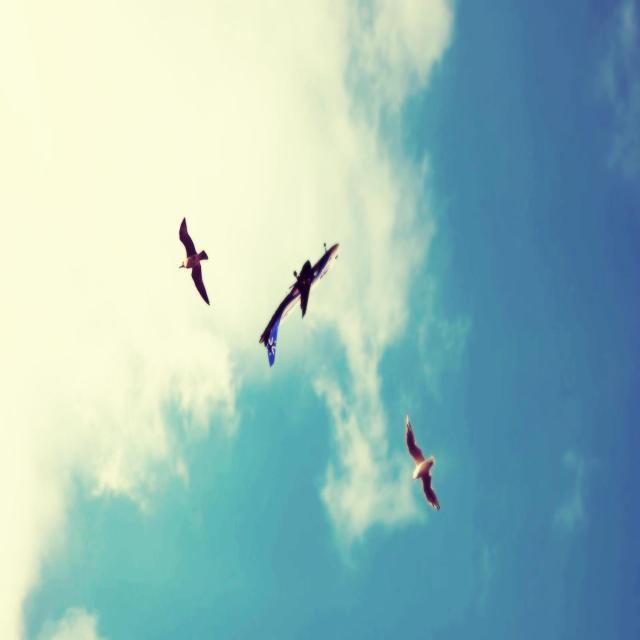airplane: (259, 240, 339, 366)
